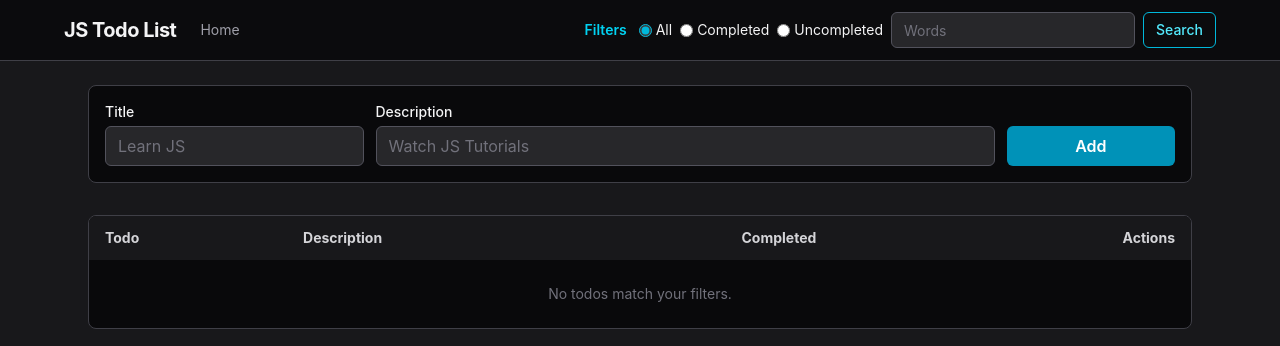
US2 - Add and List Tasks › adds a task to the table and renders checkbox and action buttons
Type "Buy milk" into the field labelled "Title" at (234, 146), box [105, 126, 364, 166]
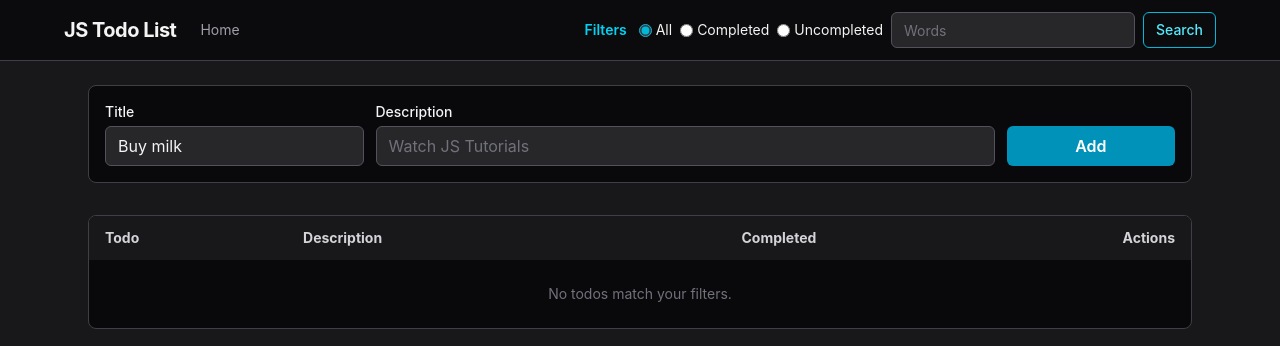
Type "2 liters" into the field labelled "Description" at (685, 146), box [376, 126, 995, 166]
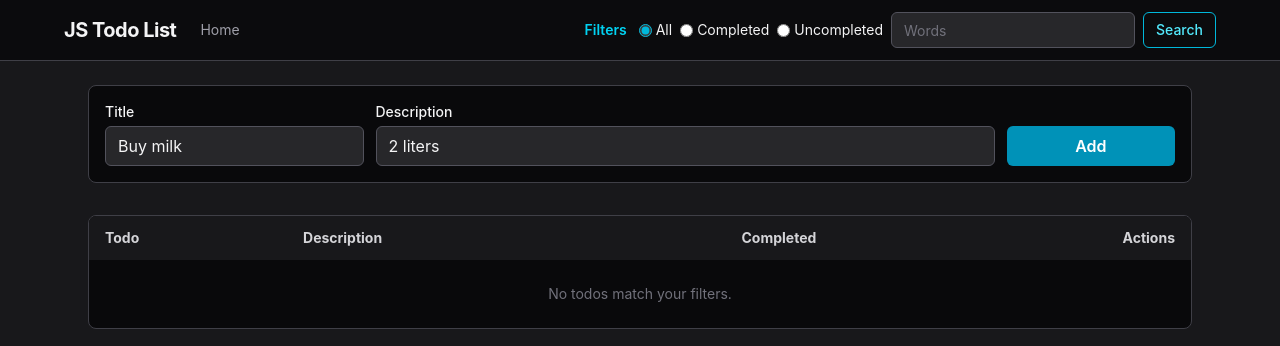
Click the button "Add" at (1091, 146), box [1007, 126, 1175, 166]
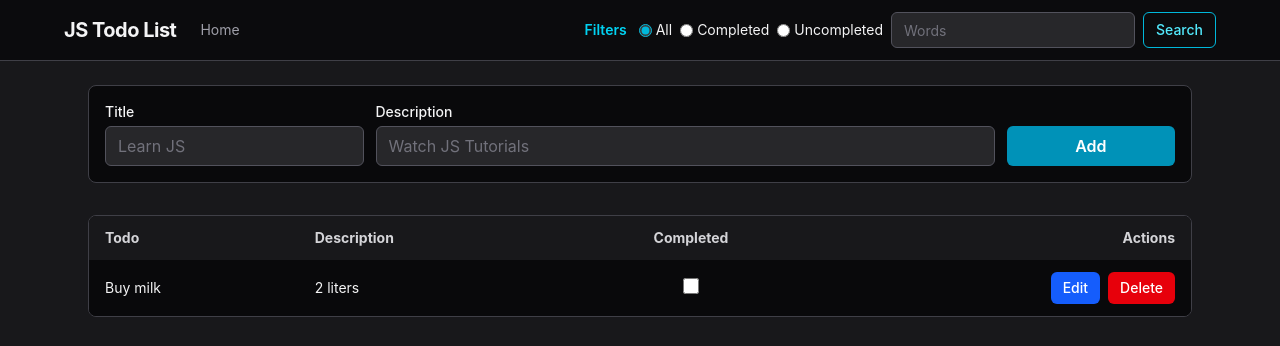
Expected: the text "Buy milk" is shown, [105, 279, 161, 296]
Expected: the text "2 liters" is shown, [299, 260, 564, 316]
Expected: the checkbox is shown, [683, 278, 699, 294]
